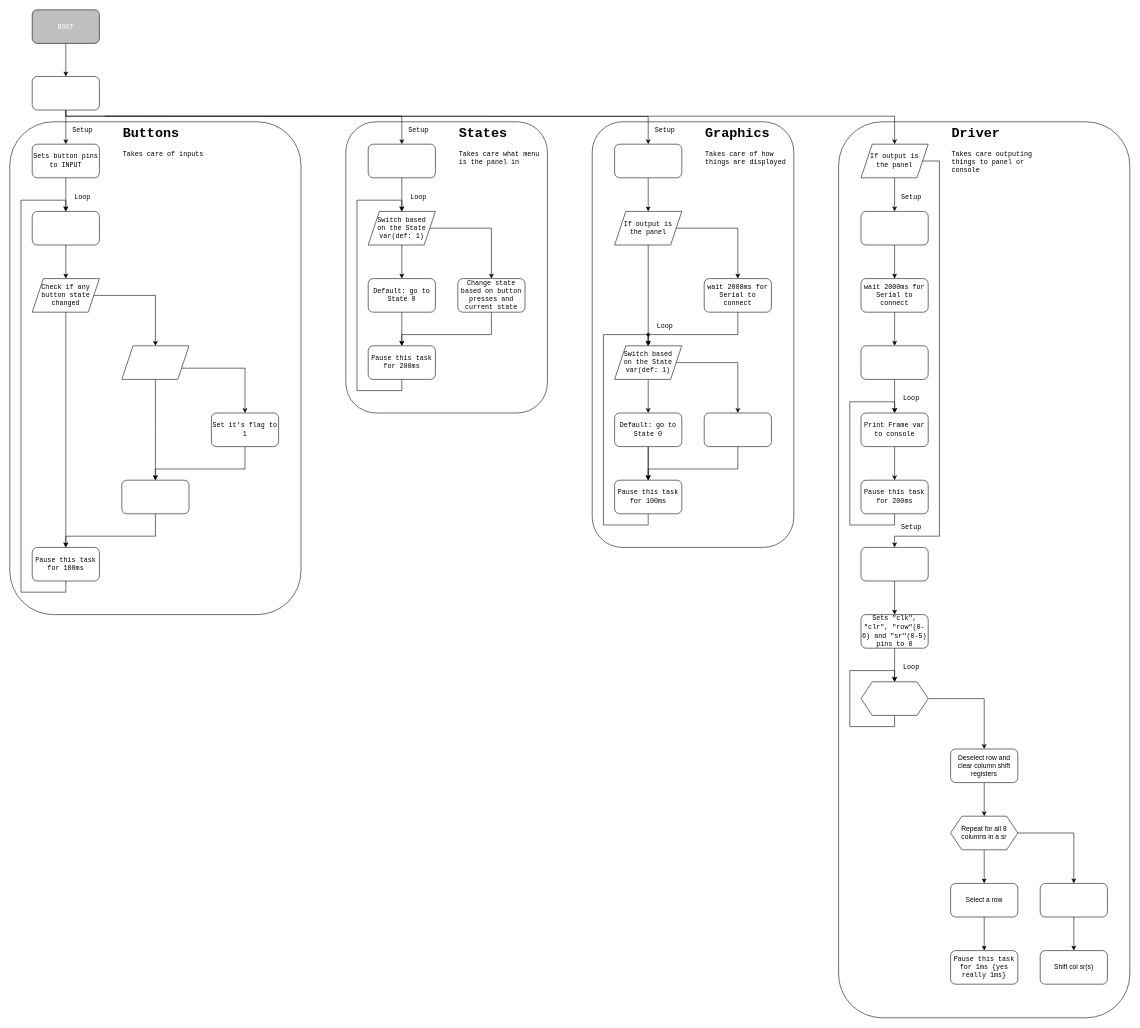
Image size: 1140x1028. Some labels were removed from this diagram. Here are the shapes that lost their labels. From the top down, the centre of each, then its label:
point 65,93: Start 4 tasks on core 1
point 401,161: Setup is also empty
point 648,161: Clear the Frame (set every pixel to 2)
point 65,228: Update current button state vars
point 894,228: Open Serial with 250000 bauds
point 155,362: If the button is pressed
point 894,362: Print to console "BEGIN"
point 737,429: React to buttons; Draw the right image to Frame var
point 155,497: Set last state to current state
point 894,564: Sets "clk", "clr", "row"(0-6) and "sr"(0-5) pins to INPUT
point 894,698: Repeat for all 7 rows
point 1073,900: Set bit to each col sr
